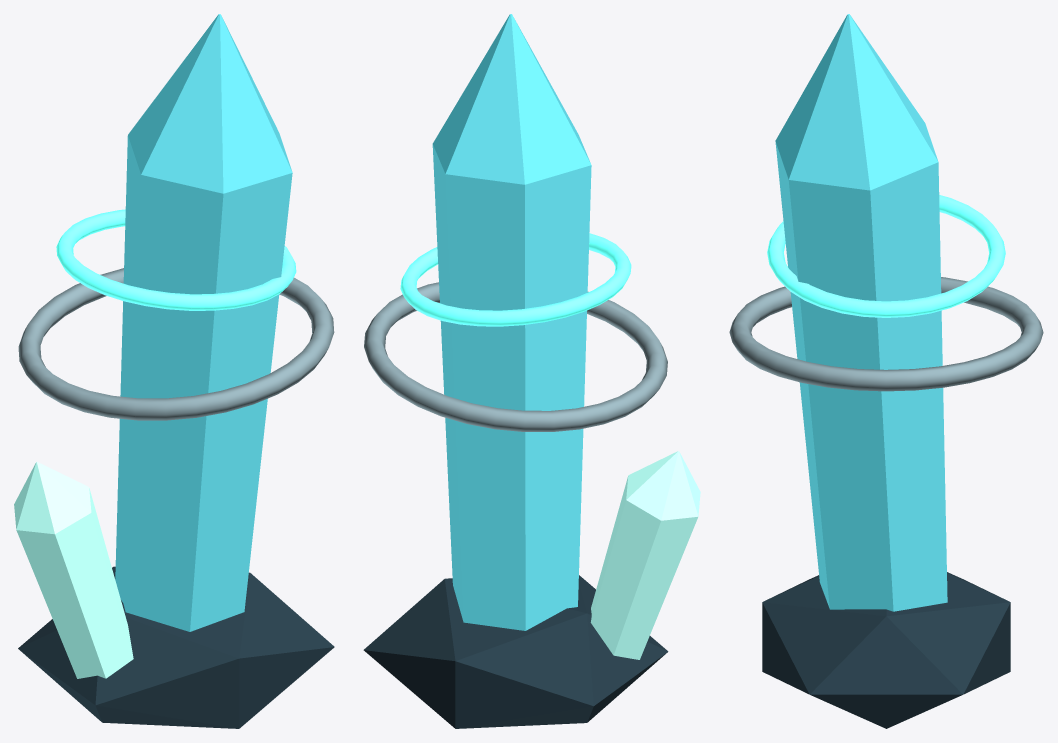
Rendered from echo-crystal.glb.
The picture shows the model from 3 angles, left to right: view 1: azimuth 30°, elevation 25°; view 2: azimuth 150°, elevation 25°; view 3: azimuth 270°, elevation 25°; orthographic projection. The views are drawn at different scales.
Visible parts, largest first — view 1: Vesper / echo-crystal; view 2: Vesper / echo-crystal; view 3: Vesper / echo-crystal.
Boxes of the visible parts, bbox=[...] form: Vesper / echo-crystal: bbox=[14, 14, 334, 728]; Vesper / echo-crystal: bbox=[363, 14, 700, 728]; Vesper / echo-crystal: bbox=[729, 14, 1043, 728].
Size of the model in its own units: 1.22 by 2.61 by 1.07.
